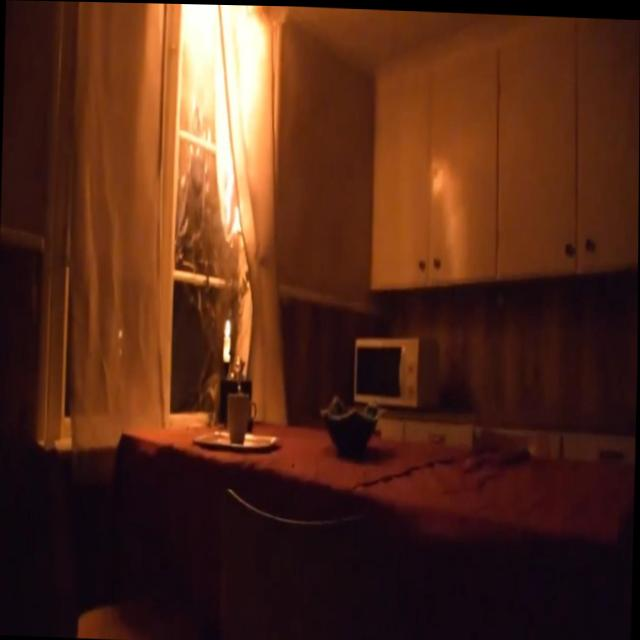fire: (176, 3, 280, 248), (224, 316, 232, 336)
